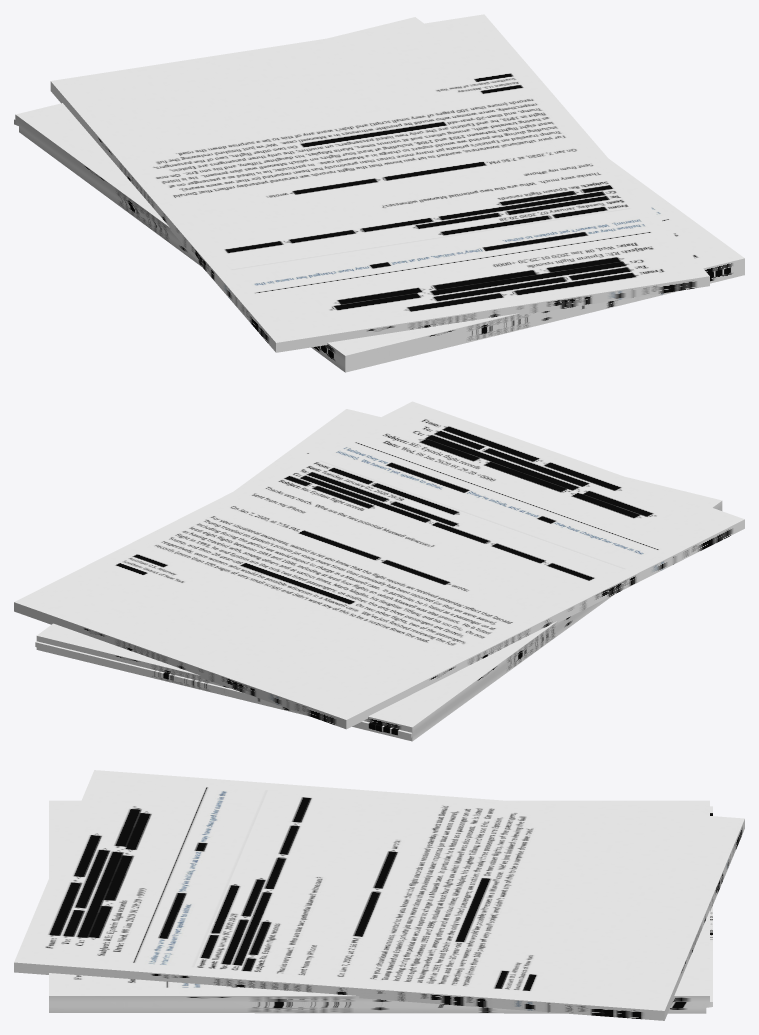
The model's file is EpsteinFiles.fbx.
The picture shows the model from 3 angles, top to bottom: view 1: azimuth 30°, elevation 25°; view 2: azimuth 150°, elevation 25°; view 3: azimuth 270°, elevation 25°; orthographic projection. The views are drawn at different scales.
Visible parts, largest first — view 1: Box179; view 2: Box179; view 3: Box179.
Part boxes in pixels (x1,y1,x2,y2): Box179: (14,14,744,372); Box179: (14,401,744,741); Box179: (14,770,744,1020).
Size of the model in its own units: 10.19 by 0.4859 by 13.07.
